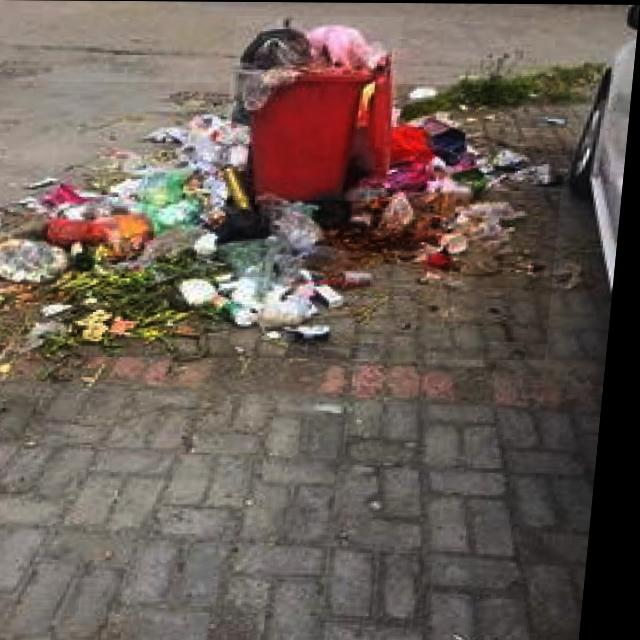garbage: (0, 81, 573, 359)
overflow: (223, 15, 404, 201)
